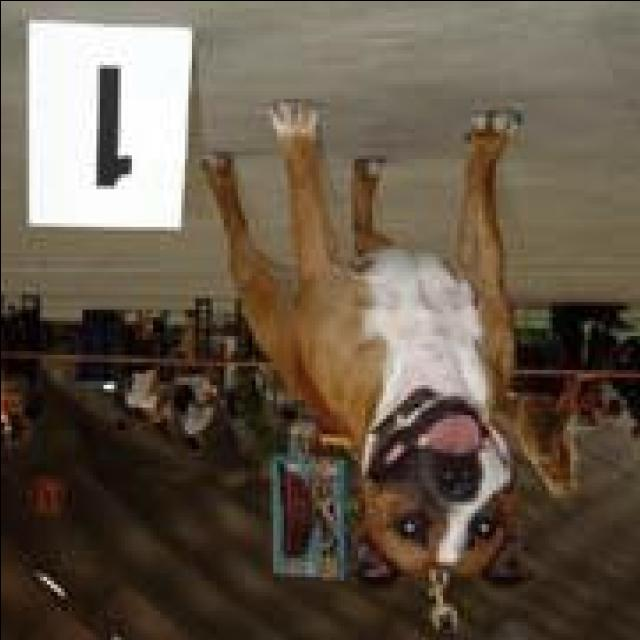staffordshire_bullterrier: (206, 68, 612, 625)
